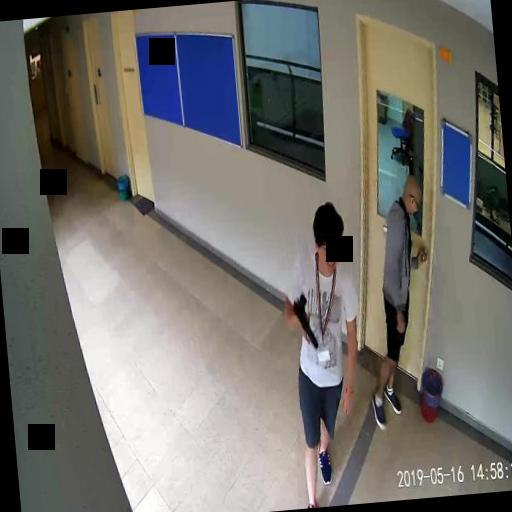Handgun: (290, 288, 318, 349)
